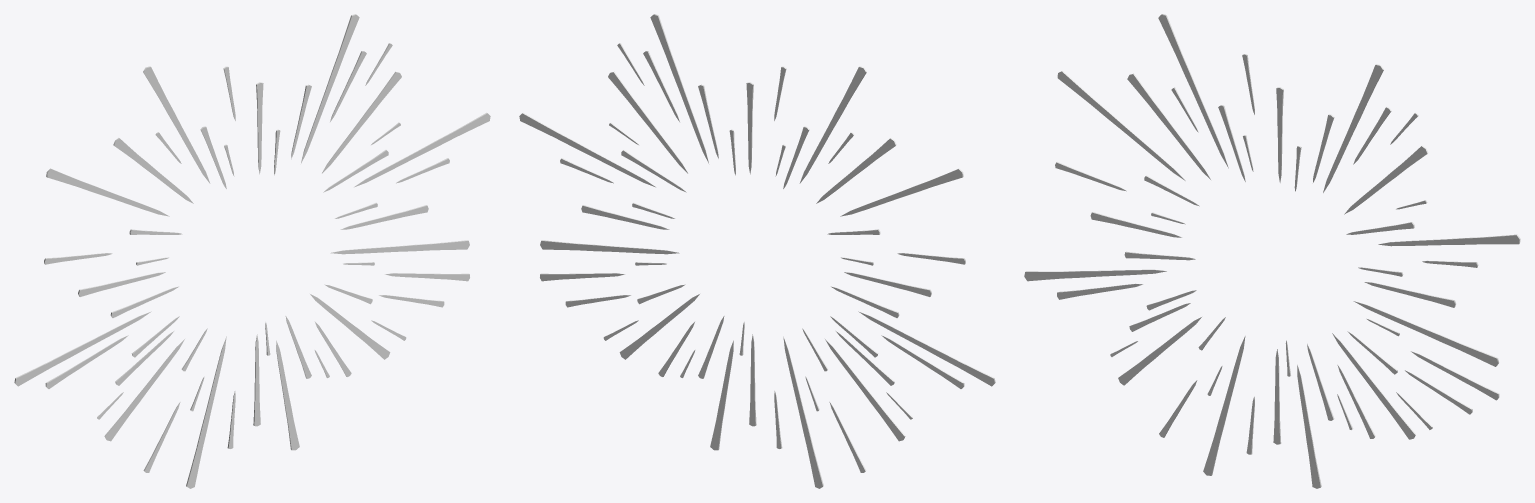
Rendered from SM_flashlines_AC.fbx.
3 views of the same model, side by side, from view 1: azimuth 30°, elevation 25°; view 2: azimuth 150°, elevation 25°; view 3: azimuth 330°, elevation 25° (orthographic). The views are drawn at different scales.
Parts seen in each view (by area): view 1: pCube58; view 2: pCube58; view 3: pCube58.
Part boxes in pixels (<box>): pCube58: <box>14,14,490,488</box>; pCube58: <box>519,14,995,488</box>; pCube58: <box>1024,14,1520,488</box>.
Size of the model in its own units: 312 by 1.06 by 272.
